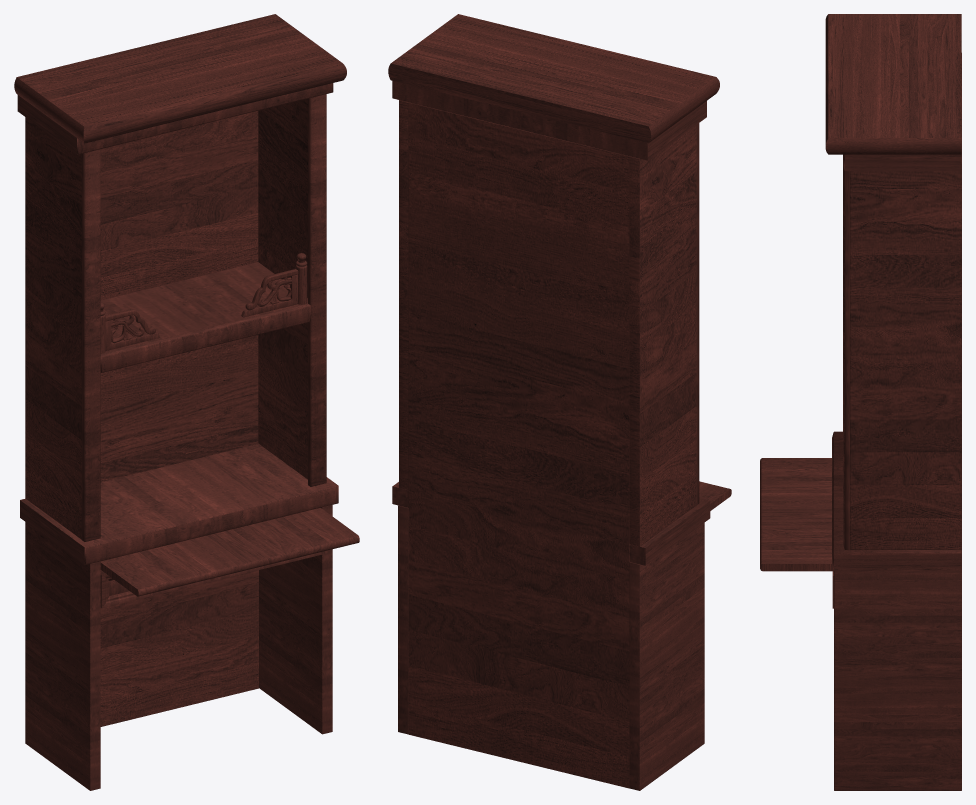
The model's file is MD-明神龛.fbx.
3 renders of one model, left to right at view 1: azimuth 30°, elevation 25°; view 2: azimuth 150°, elevation 25°; view 3: azimuth 270°, elevation 25°, orthographic.
Parts seen in each view (by area): view 1: MD-明神龛; view 2: MD-明神龛; view 3: MD-明神龛.
Part boxes in pixels (box(x1,y1,x2,y2)): MD-明神龛: box(14, 14, 359, 790); MD-明神龛: box(388, 14, 731, 790); MD-明神龛: box(760, 14, 961, 790).
Size of the model in its own units: 0.8704 by 0.5881 by 2.11.
